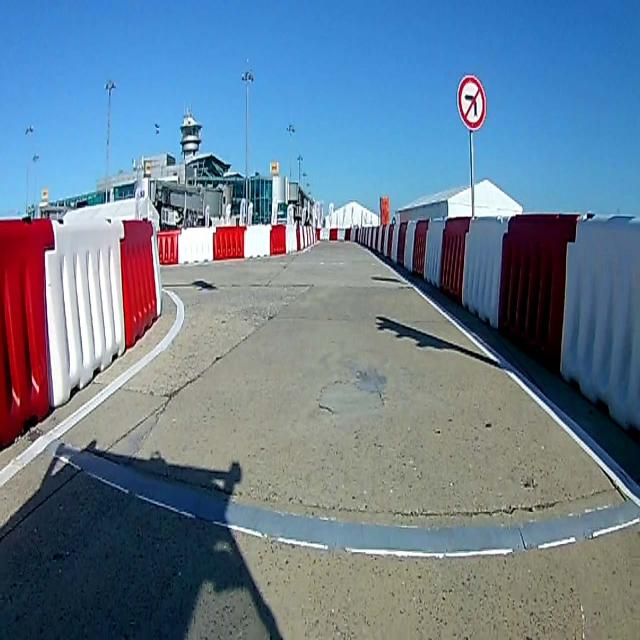soladonulmez: (457, 75, 487, 128)
